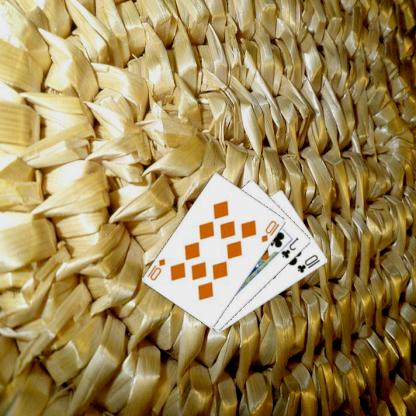10C: (296, 252, 323, 274)
10D: (260, 217, 282, 244), (147, 256, 169, 282)
JC: (281, 235, 302, 260)
